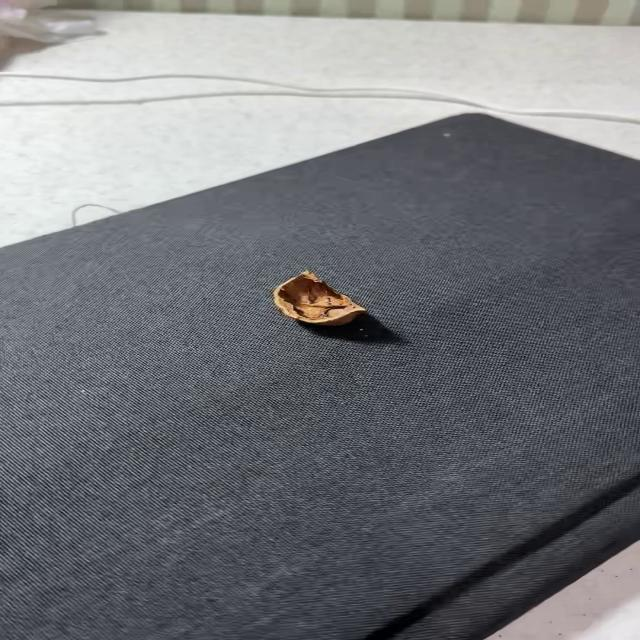nuts-bad0.25: (274, 271, 366, 326)
